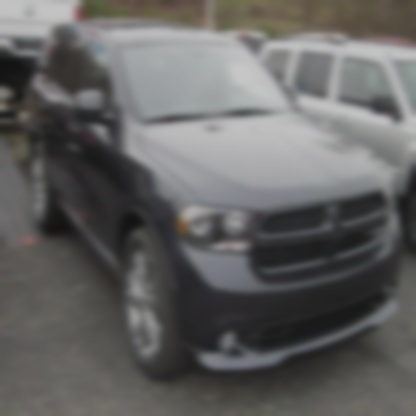Vehicle: (26, 17, 404, 382)
